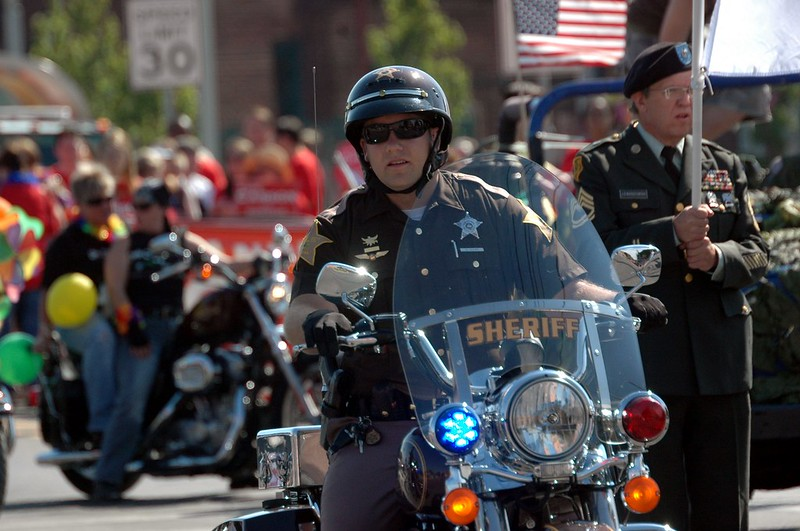helmet: (345, 61, 455, 126)
